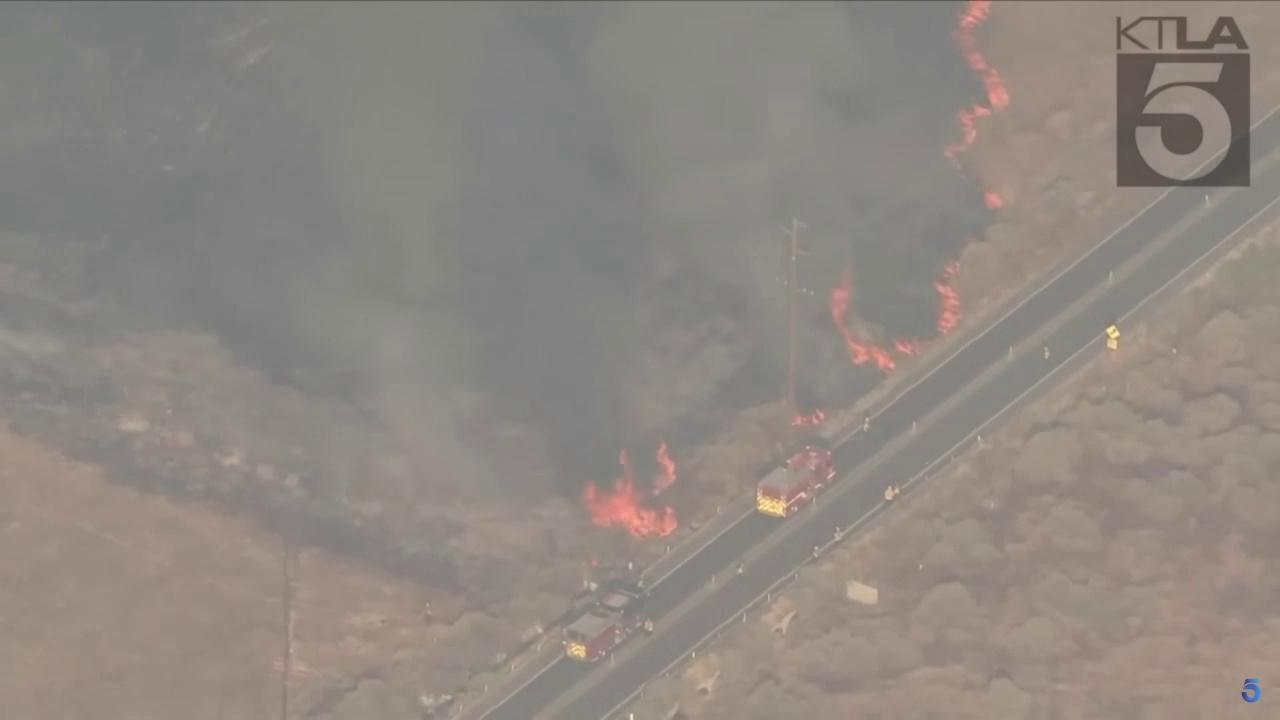fire: (942, 0, 1012, 171), (578, 438, 677, 540), (825, 287, 895, 373), (930, 279, 961, 336), (790, 407, 826, 428), (893, 338, 923, 357), (981, 190, 1005, 211), (938, 260, 963, 278)
smoke: (0, 0, 988, 506)
